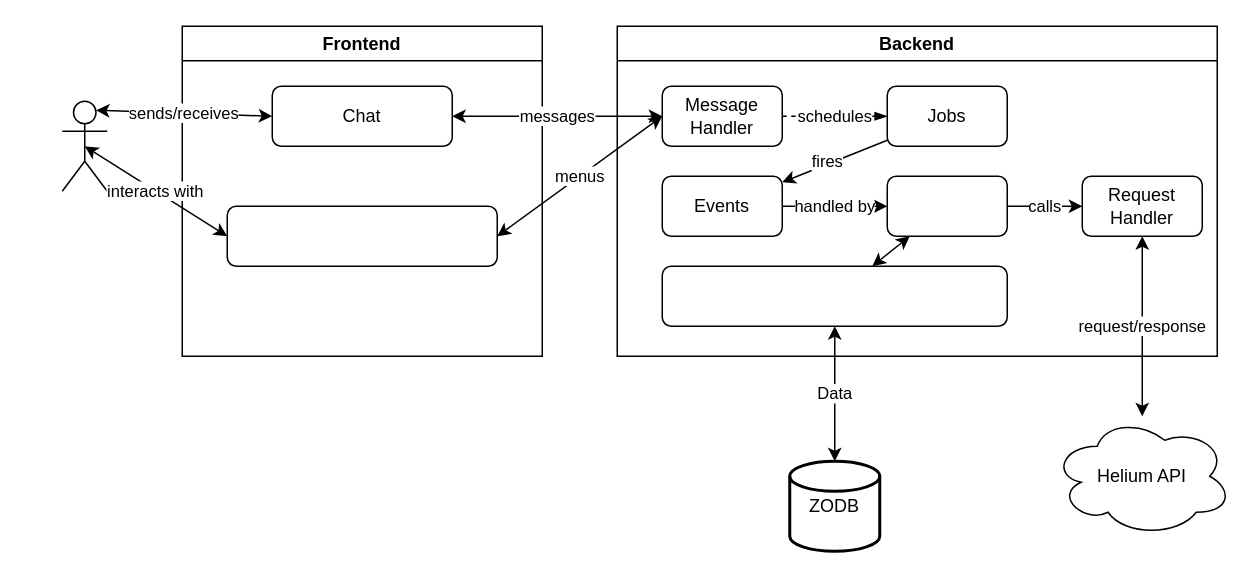
Image size: 1259x579. Some labels were removed from this diagram. Here are the shapes that lost their labels. From the top down, the centre of each, then its label:
At pixel 84 145: "Telegram User".
At pixel 946 205: "Event Handlers".
At pixel 361 235: "Menu Items / UI Elements".
At pixel 834 295: "DBManager".
